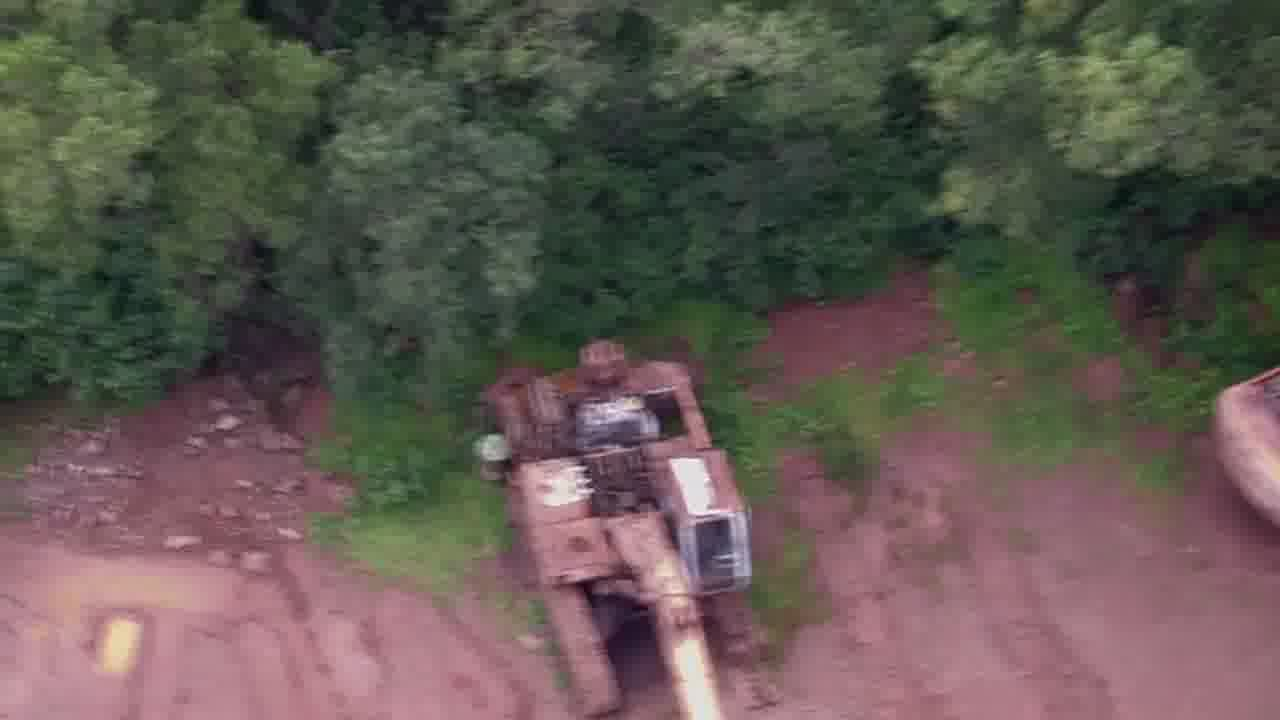HMV: (479, 342, 758, 720)
